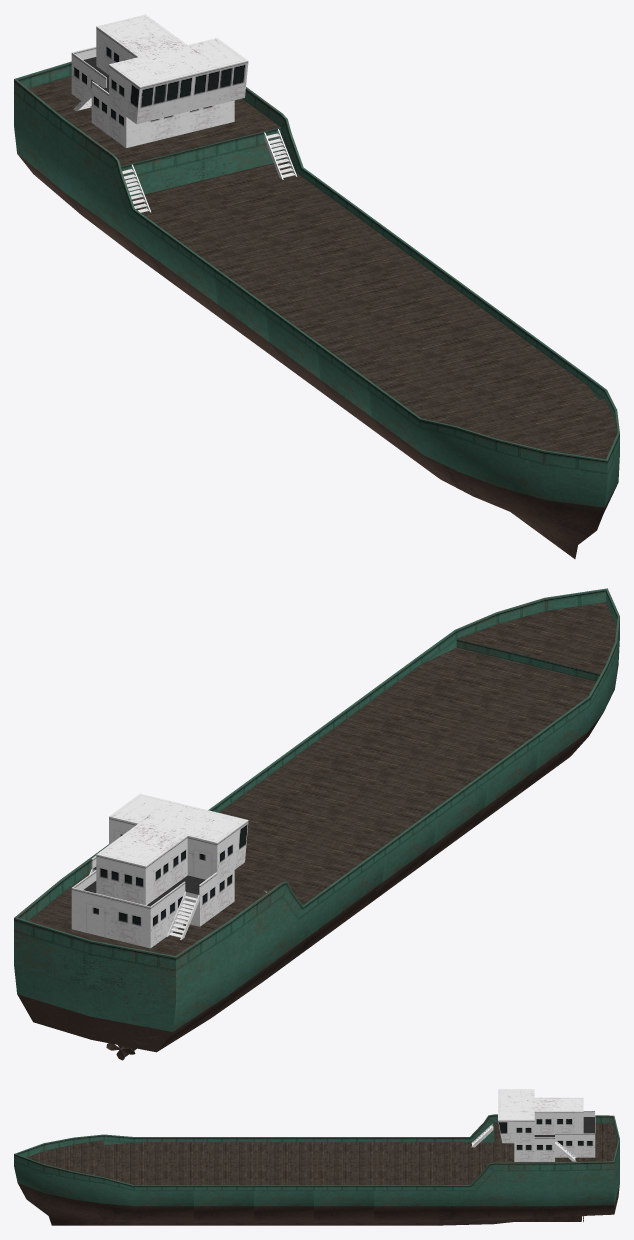
File: Ship.obj
The picture shows the model from 3 angles, top to bottom: view 1: azimuth 30°, elevation 25°; view 2: azimuth 150°, elevation 25°; view 3: azimuth 270°, elevation 25°; orthographic projection. The views are drawn at different scales.
Parts seen in each view (by area): view 1: Ship; view 2: Ship; view 3: Ship.
Boxes of the visible parts, box(x1,y1,x2,y2) form: Ship: box(14, 14, 619, 558); Ship: box(14, 588, 619, 1060); Ship: box(14, 1089, 619, 1225).
Size of the model in its own units: 74.47 by 86.22 by 391.
